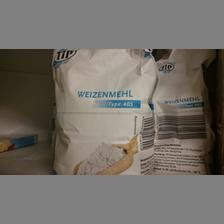Mehl: (50, 47, 158, 172), (150, 49, 214, 173)
